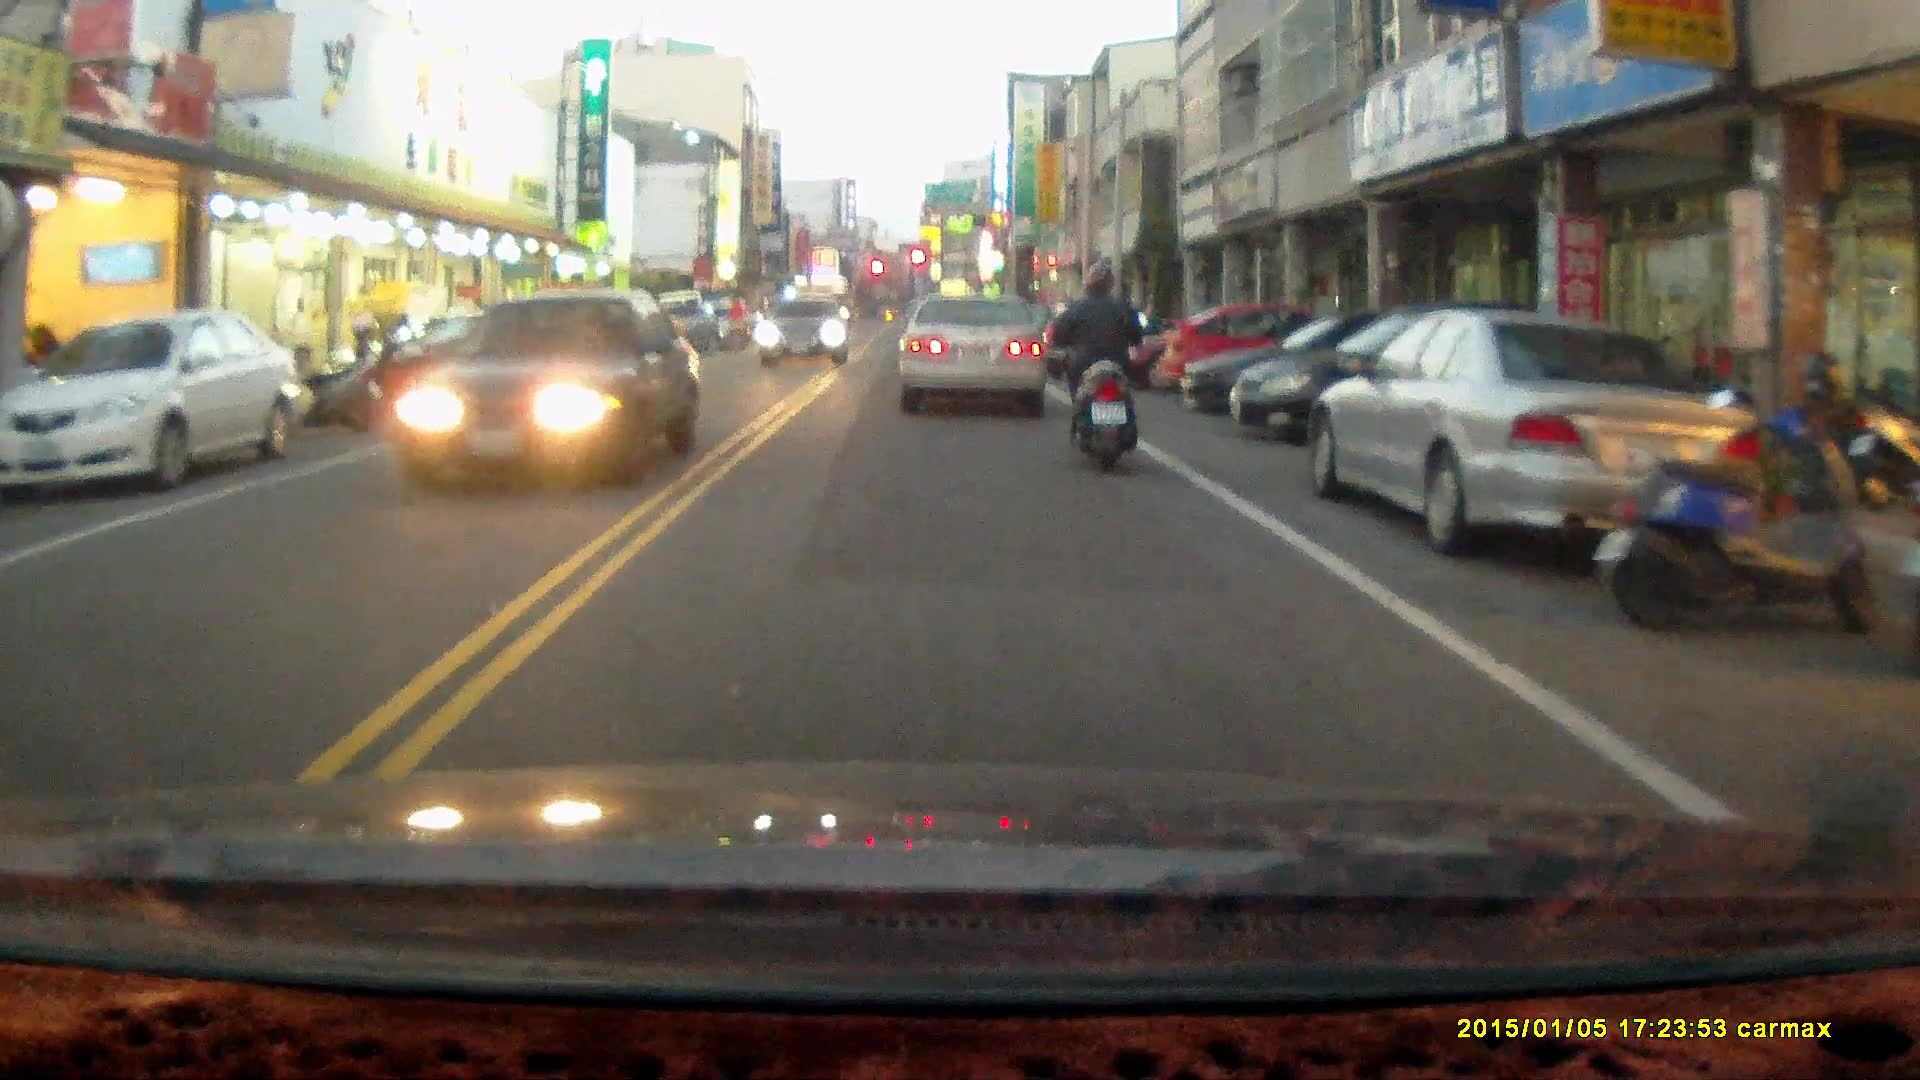pedestrian: (284, 293, 313, 367)
rider: (1048, 256, 1150, 465), (721, 289, 746, 352)
vehicle: (1314, 305, 1761, 558), (396, 290, 704, 492), (7, 306, 319, 496), (1226, 297, 1569, 443), (1175, 308, 1514, 418), (1157, 298, 1408, 396), (898, 291, 1050, 410), (754, 297, 851, 368)
